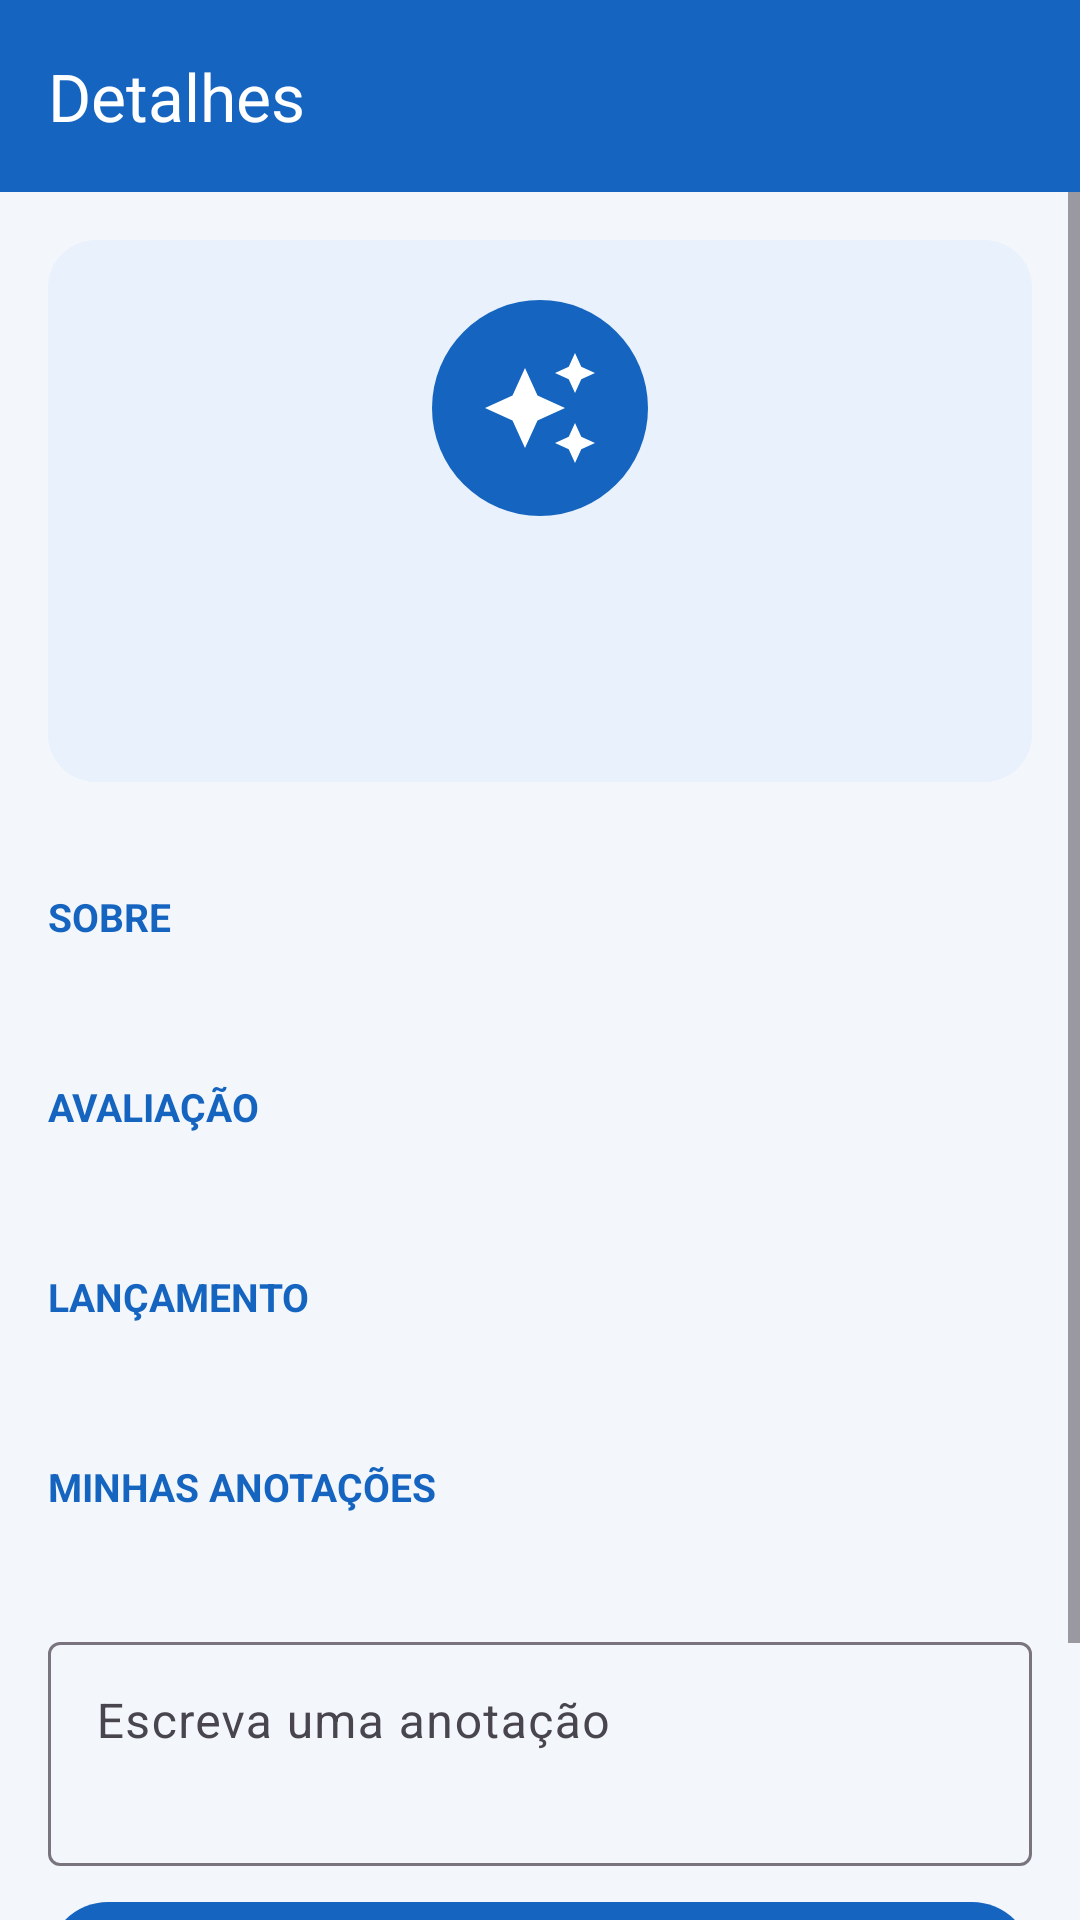

Icon click points for this 1080px×1920px phone screenshot, format [x,y]:
Ícone do modelo: [540,408]
